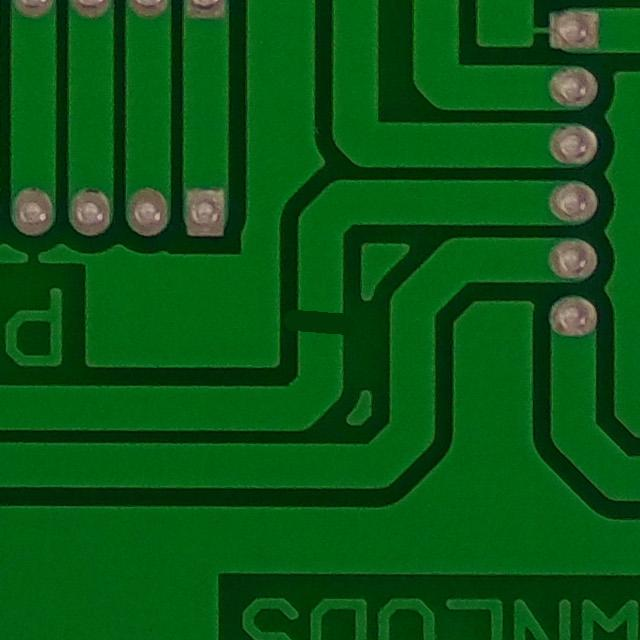open_circuit: (282, 292, 359, 349)
